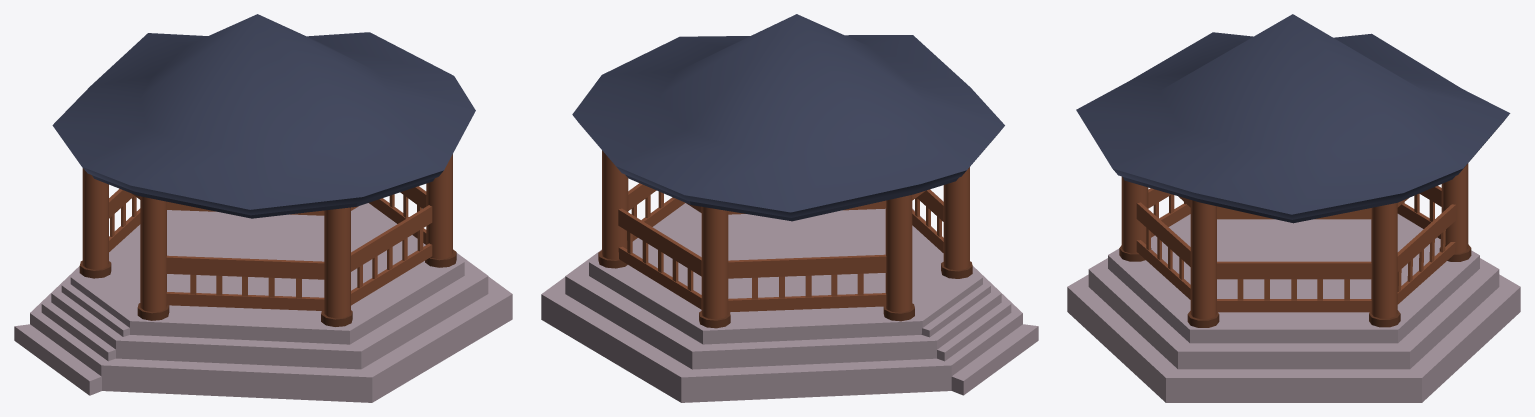
Rendered from aicove020_1.fbx.
3 views of the same model, side by side, from view 1: azimuth 30°, elevation 25°; view 2: azimuth 150°, elevation 25°; view 3: azimuth 270°, elevation 25° (orthographic). The views are drawn at different scales.
Parts seen in each view (by area): view 1: alcove020_1; view 2: alcove020_1; view 3: alcove020_1.
Boxes of the visible parts, x1,y1,x2,y2 form: alcove020_1: (14, 14, 512, 402); alcove020_1: (541, 14, 1038, 402); alcove020_1: (1067, 14, 1520, 402).
Bounding box in the file's own units: 1501 × 1089 × 1501.
